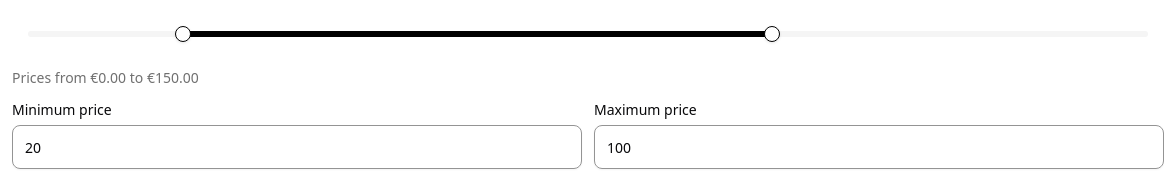
Scenario: PriceRange › moving a thumb › changes the field
Set the slider named "Minimum price" to "40": x=183, y=34 [161,12,205,56]
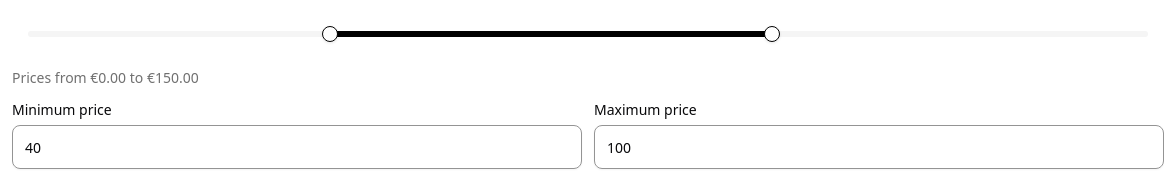
Check: the number field labelled "Minimum price" holds "40", box [12,125,582,169]
Set the slider named "Maximum price" to "90": x=772, y=34 [750,12,794,56]
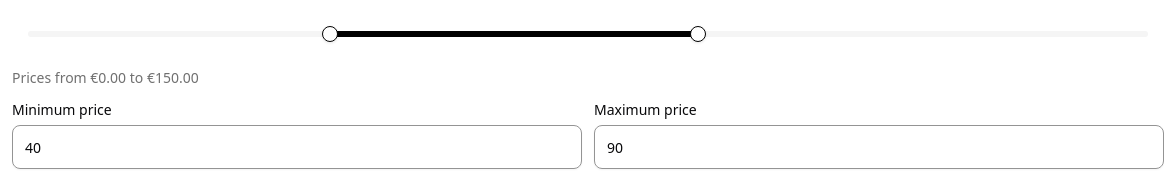
Check: the number field labelled "Maximum price" holds "90", box [594,125,1164,169]
